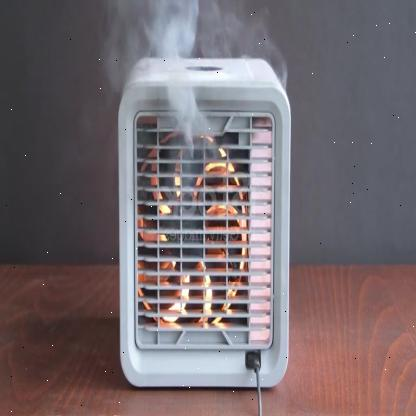smoke: (95, 0, 295, 153)
